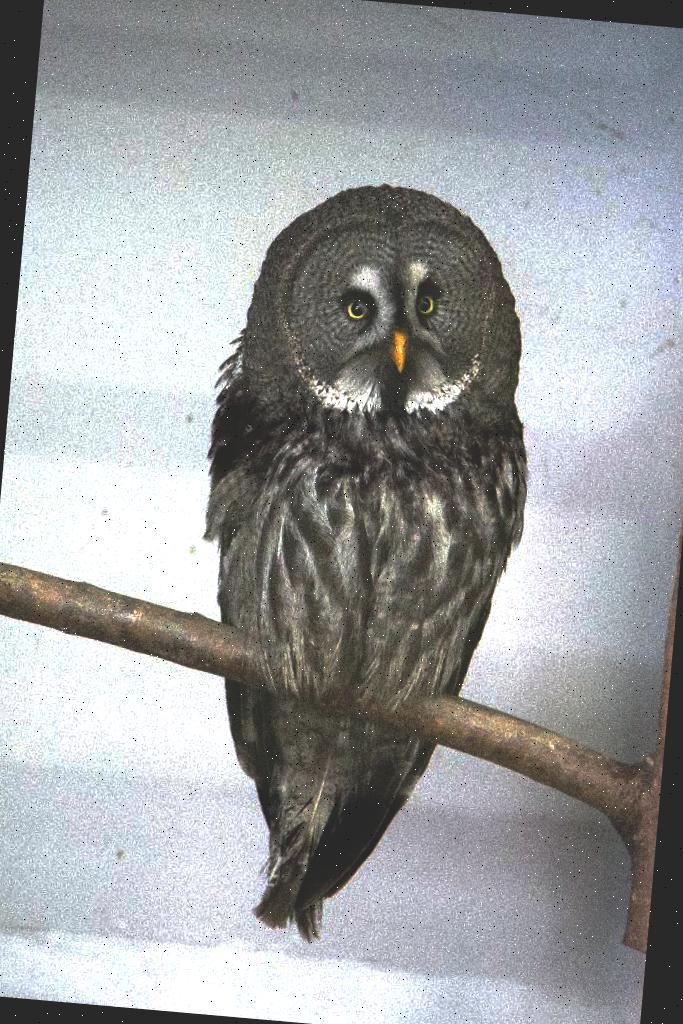Owl: (165, 170, 553, 958)
